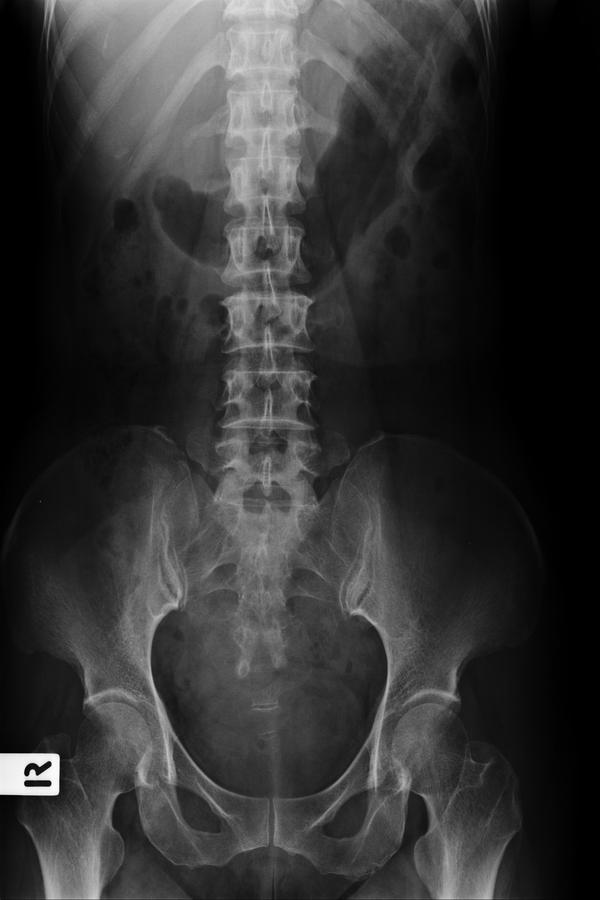not lumbar scoliosis: (204, 201, 326, 539)
